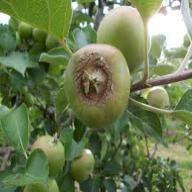apple: (59, 42, 134, 126), (96, 6, 152, 66), (29, 132, 66, 176), (66, 148, 97, 180), (145, 81, 170, 111)
